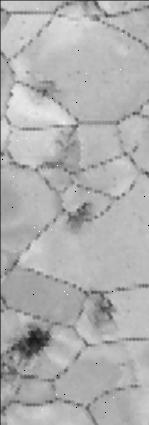good_void: (0, 319, 55, 383), (89, 290, 122, 329), (61, 198, 93, 235), (32, 76, 65, 107), (131, 144, 139, 154), (25, 68, 31, 75), (127, 308, 131, 313)
